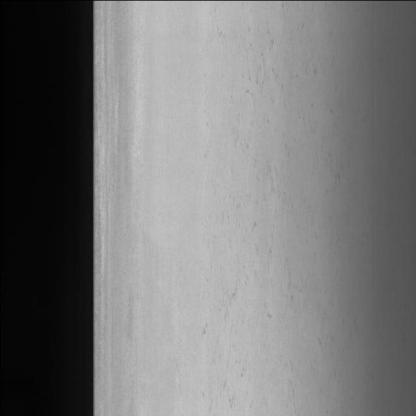silk_spot: (211, 14, 308, 329)
